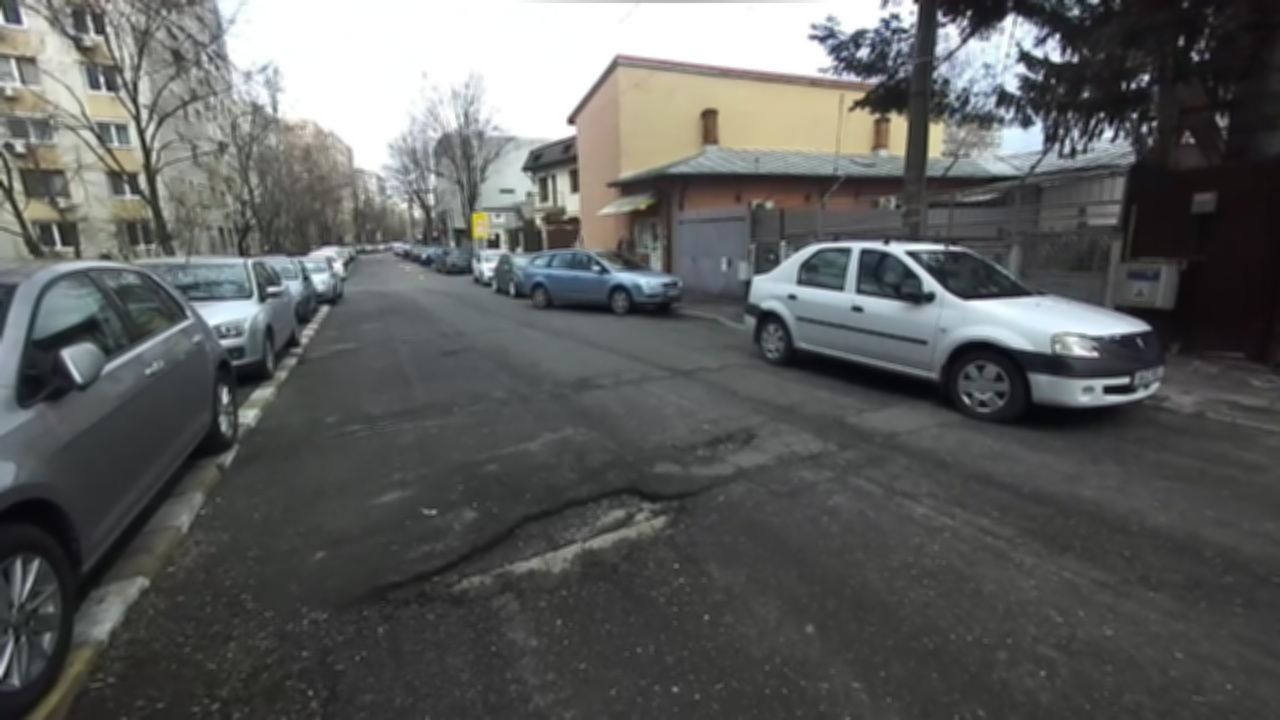pothole: (348, 479, 730, 614), (671, 421, 762, 462)
